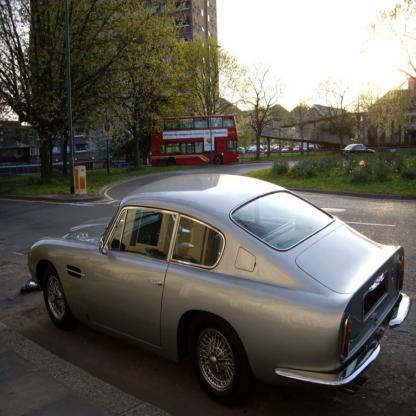Bus: (150, 114, 239, 167)
